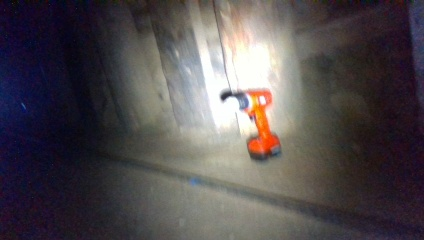drill: (222, 90, 281, 164)
